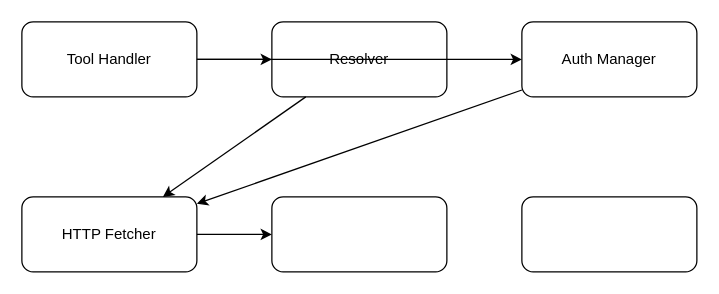
The diagram is 719 pixels wide and 294 high, and some of its shapes have lost their labels. The box of each missing label's shape, as (x1, y1, x2, y2) in pixels:
Content Processor: (271, 196, 447, 272)
Error Handler: (521, 196, 697, 272)
